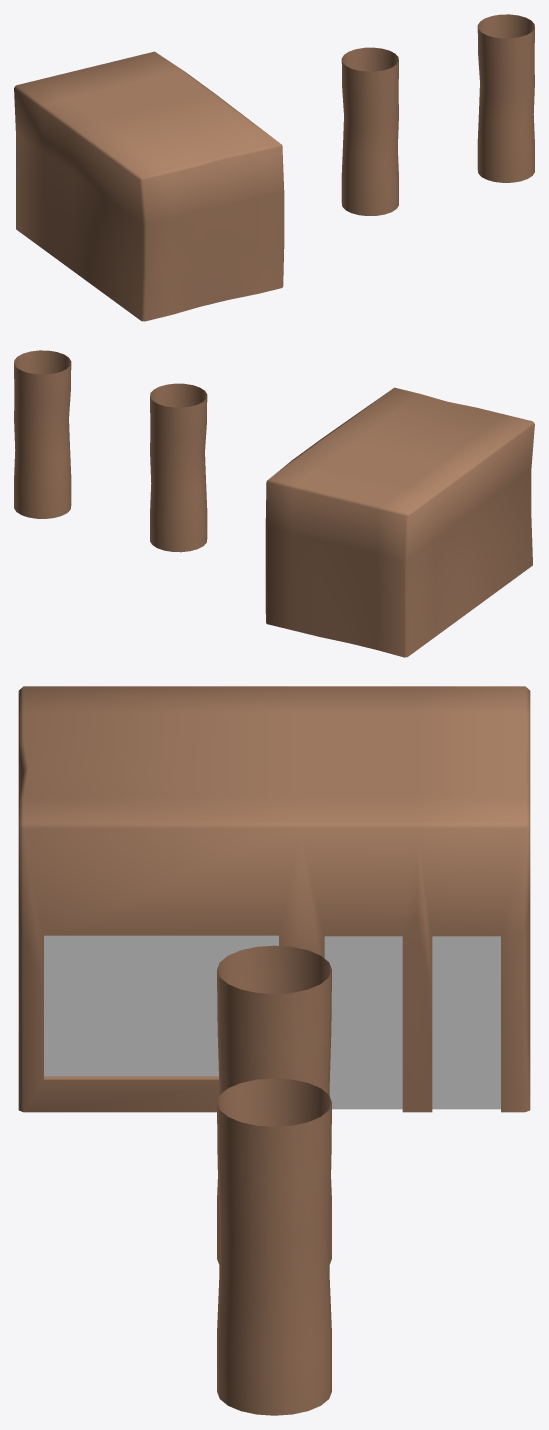
Rendered from gasStation_base.fbx.
The picture shows the model from 3 angles, top to bottom: view 1: azimuth 30°, elevation 25°; view 2: azimuth 150°, elevation 25°; view 3: azimuth 270°, elevation 25°; orthographic projection. The views are drawn at different scales.
Visible parts, largest first — view 1: gasStation_kiosk, gasStation_pillars; view 2: gasStation_kiosk, gasStation_pillars; view 3: gasStation_kiosk, gasStation_pillars, gasStation_newspaper.
Part boxes in pixels (x1,y1,x2,y2): gasStation_kiosk: (14, 51, 284, 321); gasStation_pillars: (341, 14, 534, 215); gasStation_kiosk: (265, 387, 534, 657); gasStation_pillars: (14, 350, 207, 552); gasStation_kiosk: (18, 686, 530, 1112); gasStation_pillars: (217, 945, 331, 1415); gasStation_newspaper: (44, 935, 500, 1109).
Bounding box in the file's own units: 1384 × 675 × 420.
